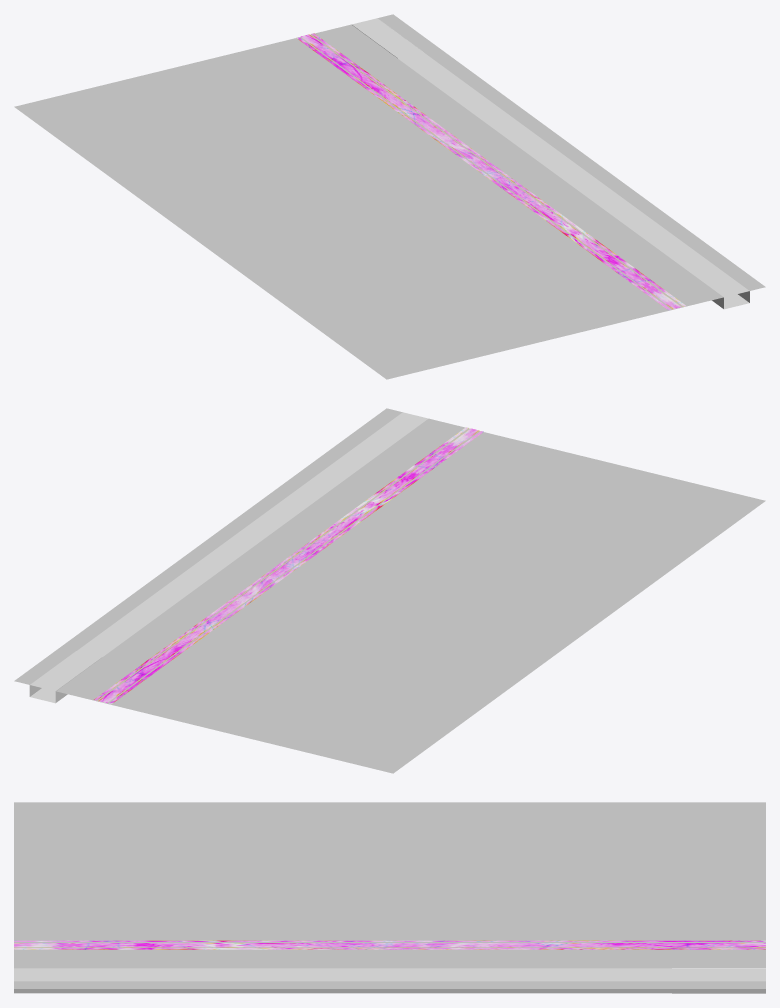
The model's file is floor_01.fbx.
3 renders of one model, top to bottom at view 1: azimuth 30°, elevation 25°; view 2: azimuth 150°, elevation 25°; view 3: azimuth 270°, elevation 25°, orthographic.
Parts seen in each view (by area): view 1: Plane.180, Plane.179, Plane.178; view 2: Plane.180, Plane.179, Plane.178; view 3: Plane.180, Plane.179, Plane.178.
Boxes of the visible parts, box(x1,y1,x2,y2) form: Plane.180: box(14, 14, 765, 379); Plane.179: box(351, 18, 749, 309); Plane.178: box(296, 33, 685, 310); Plane.180: box(14, 408, 765, 773); Plane.179: box(29, 412, 428, 703); Plane.178: box(94, 427, 483, 704); Plane.180: box(14, 802, 765, 988); Plane.179: box(14, 968, 765, 993); Plane.178: box(14, 940, 765, 949).
Bounding box in the file's own units: 2.35 × 0.0745 × 4.
